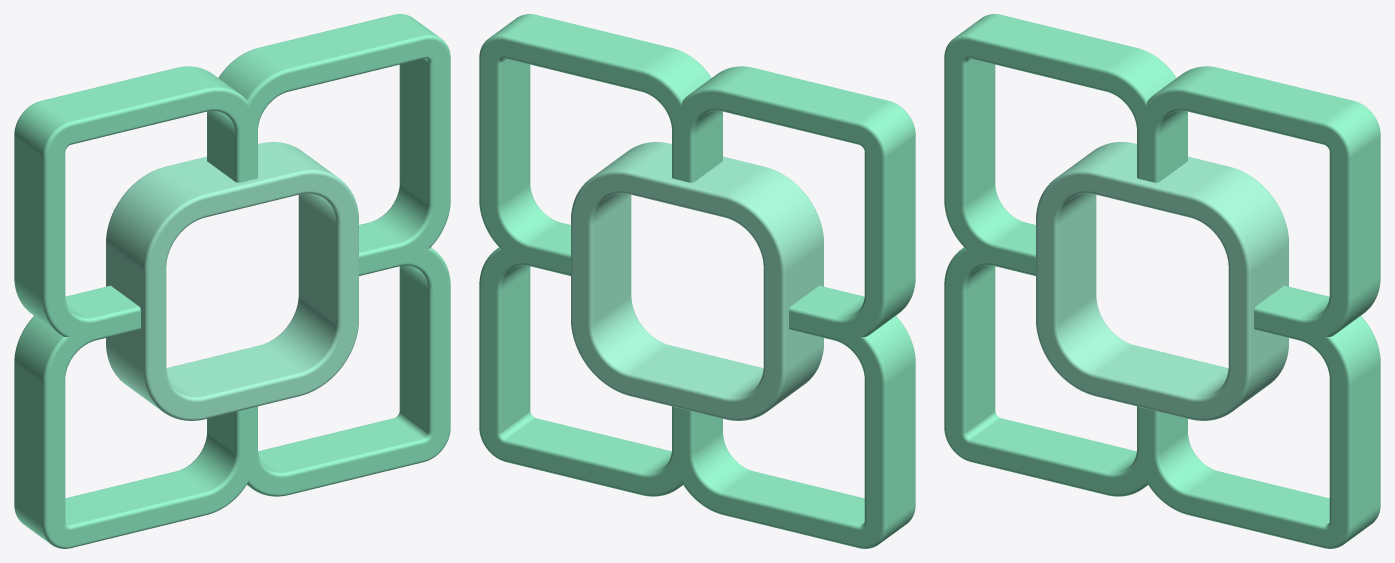
File: dokmint-mark.glb
3 views of the same model, side by side, from view 1: azimuth 30°, elevation 25°; view 2: azimuth 150°, elevation 25°; view 3: azimuth 330°, elevation 25° (orthographic).
Visible parts, largest first — view 1: core-ring, petal-nw, petal-ne, petal-sw, petal-se; view 2: core-ring, petal-nw, petal-ne, petal-sw, petal-se; view 3: core-ring, petal-nw, petal-se, petal-ne, petal-sw.
Part boxes in pixels (x1=…): core-ring: x1=106, y1=142, x2=358, y2=420; petal-nw: x1=14, y1=66, x2=257, y2=340; petal-ne: x1=207, y1=14, x2=450, y2=275; petal-sw: x1=14, y1=285, x2=257, y2=548; petal-se: x1=207, y1=224, x2=450, y2=496; core-ring: x1=571, y1=142, x2=823, y2=420; petal-nw: x1=672, y1=66, x2=915, y2=340; petal-ne: x1=479, y1=14, x2=722, y2=275; petal-sw: x1=672, y1=285, x2=915, y2=548; petal-se: x1=479, y1=232, x2=722, y2=496; core-ring: x1=1036, y1=142, x2=1288, y2=420; petal-nw: x1=944, y1=14, x2=1187, y2=275; petal-se: x1=1137, y1=285, x2=1380, y2=548; petal-ne: x1=1137, y1=66, x2=1380, y2=340; petal-sw: x1=944, y1=228, x2=1187, y2=496.
Bounding box in the file's own units: 0.296 × 0.296 × 0.052.
